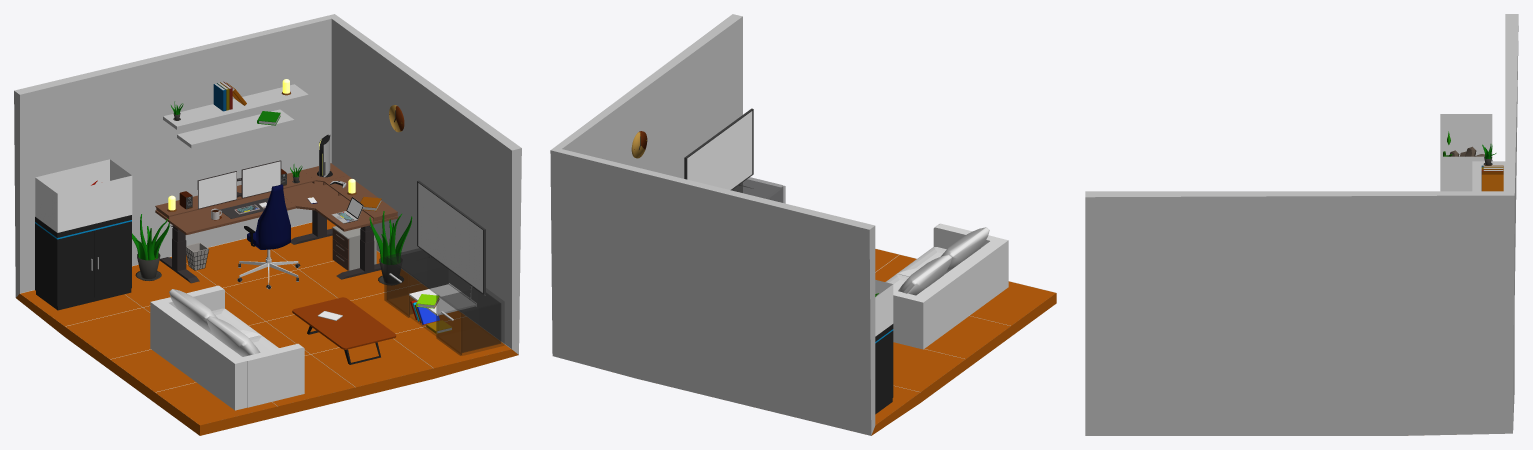
3 renders of one model, left to right at view 1: azimuth 30°, elevation 25°; view 2: azimuth 150°, elevation 25°; view 3: azimuth 270°, elevation 25°, orthographic. The views are drawn at different scales.
Parts seen in each view (by area): view 1: Cube.038, Cube.072, Cube.054, aqu, Cube.039, tv-screen, Cube.041, Cube.048, Cube.040, Cube.004, Cube.059, chair (+18 smaller); view 2: Cube.038, Cube.072, tv-screen, Cube.054, aqu, Cube.039, Cube.041, Cube.047; view 3: Cube.038, aqu, Cube.059.
Part boxes in pixels (x1,y1,x2,y2): Cube.038: (14, 14, 521, 435); Cube.072: (150, 285, 304, 410); Cube.054: (35, 215, 131, 310); aqu: (35, 159, 132, 232); Cube.039: (387, 248, 504, 355); tv-screen: (418, 183, 482, 292); Cube.041: (436, 289, 500, 355); Cube.048: (292, 297, 396, 364); Cube.040: (384, 251, 448, 317); Cube.004: (159, 210, 381, 283); Cube.059: (163, 84, 308, 129); chair: (244, 184, 290, 258); Cube.038: (550, 14, 1056, 435); Cube.072: (885, 223, 1008, 349); tv-screen: (687, 111, 752, 189); Cube.054: (875, 324, 893, 414); aqu: (875, 280, 893, 336); Cube.039: (732, 177, 782, 202); Cube.041: (732, 180, 785, 203); Cube.047: (684, 108, 753, 190); Cube.038: (1085, 14, 1518, 435); aqu: (1440, 114, 1492, 191); Cube.059: (1472, 161, 1505, 191).
Bounding box in the file's own units: 39.15 × 24.32 × 39.15.
